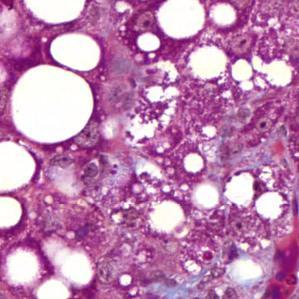steatosis: (11, 63, 95, 146), (50, 29, 106, 72)
